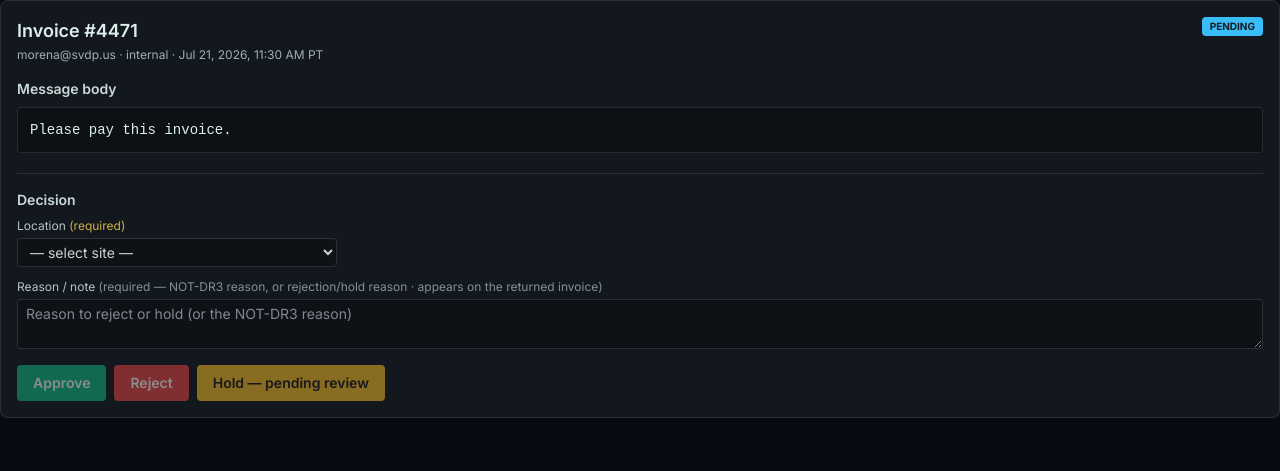
Test case: DetailPanel — structured Approve gating (Amendment 5) › NOT-DR3 uses the single note field (no structured fields shown)
The image size is (1280, 471).
Select "NOT DR3 – See Reason" in the dropdown at [177, 252], box [17,238,337,267]
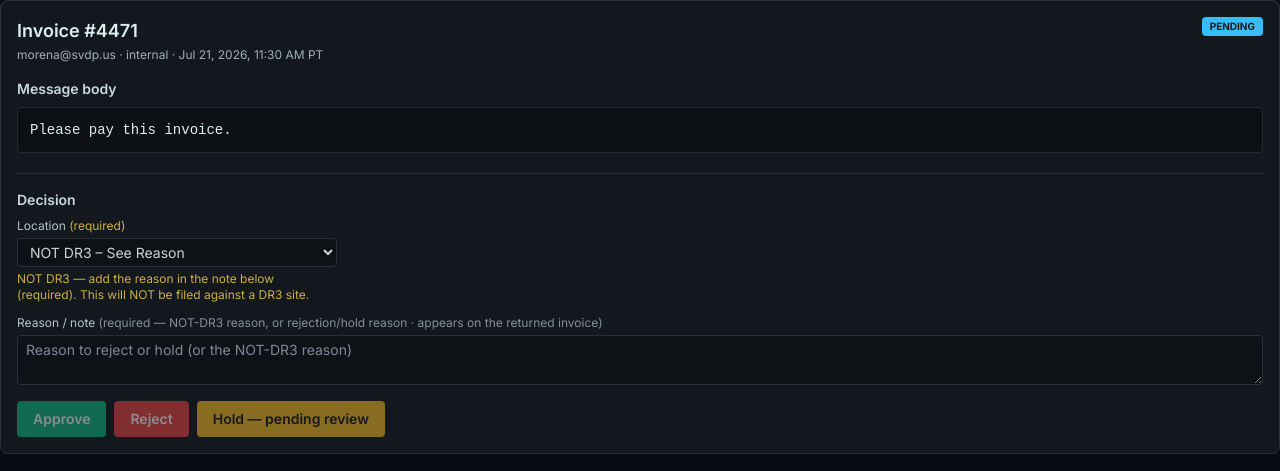
Check: the button "Approve" is disabled, box [17,401,106,437]
Type "parent-org bill, not DR3" into the text box with placeholder "Reason to reject or hold (or the NOT-DR3 reason)" at [640, 360], box [17,335,1263,385]
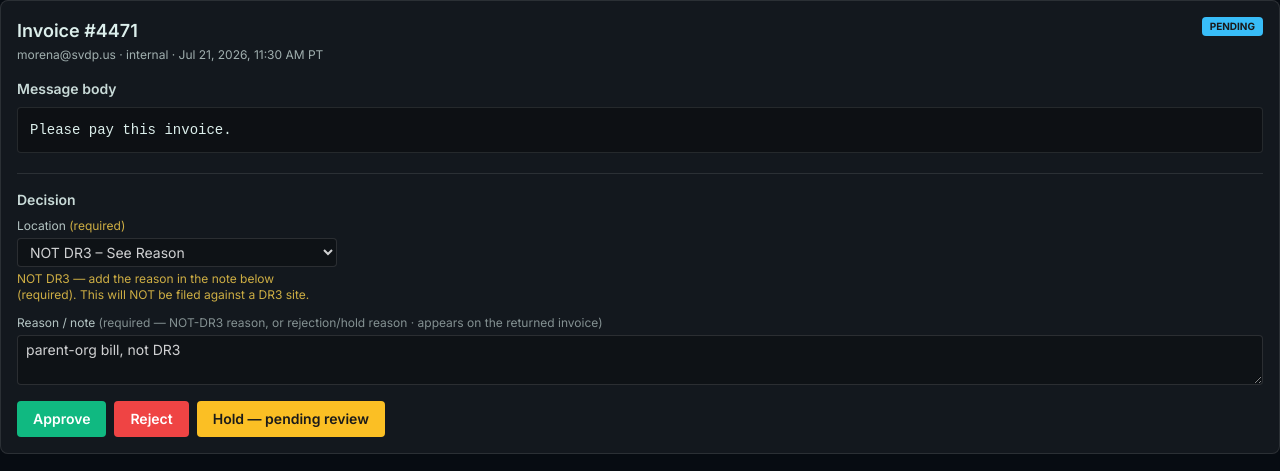
Check: the button "Approve" is enabled, box [17,401,106,437]
